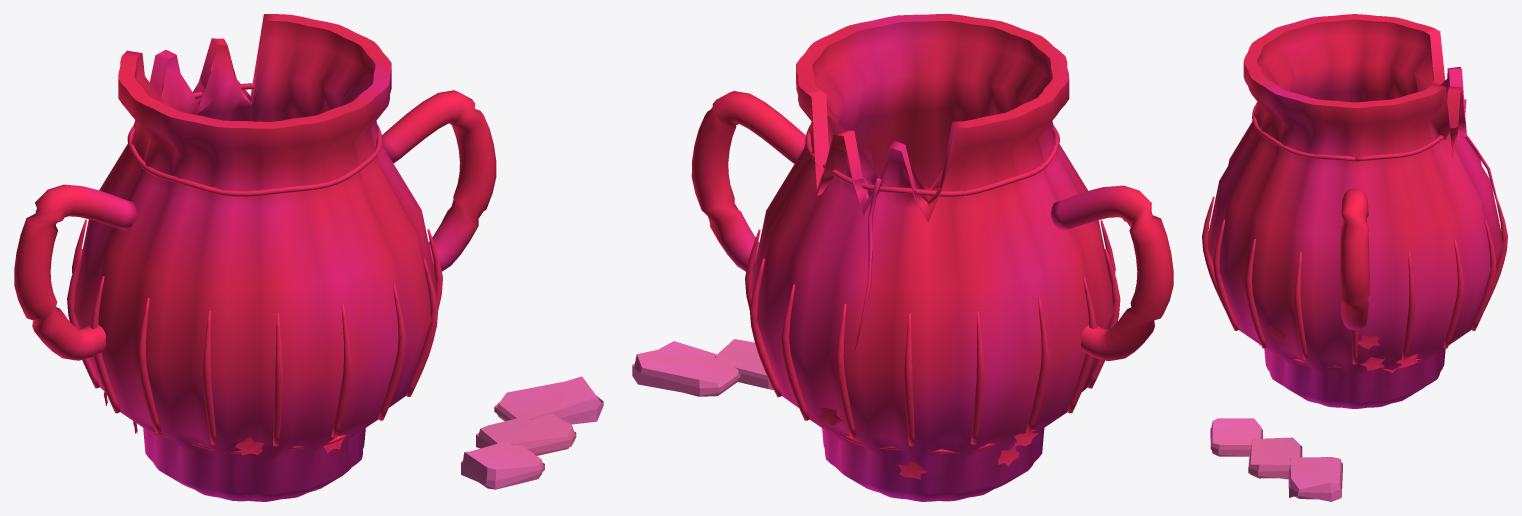
File: SM_LW_CrackedUrn.fbx
The picture shows the model from 3 angles, left to right: view 1: azimuth 30°, elevation 25°; view 2: azimuth 150°, elevation 25°; view 3: azimuth 270°, elevation 25°; orthographic projection. The views are drawn at different scales.
Visible parts, largest first — view 1: SM_LW_CrackedUrn; view 2: SM_LW_CrackedUrn; view 3: SM_LW_CrackedUrn.
Boxes of the visible parts, x1,y1,x2,y2 form: SM_LW_CrackedUrn: (14, 14, 603, 501); SM_LW_CrackedUrn: (632, 14, 1173, 501); SM_LW_CrackedUrn: (1202, 14, 1507, 501).
Size of the model in its own units: 69.38 by 117 by 80.
